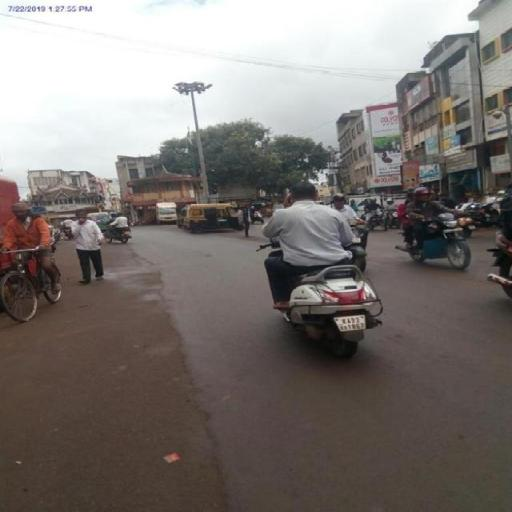using mobile: (285, 192, 296, 208)
